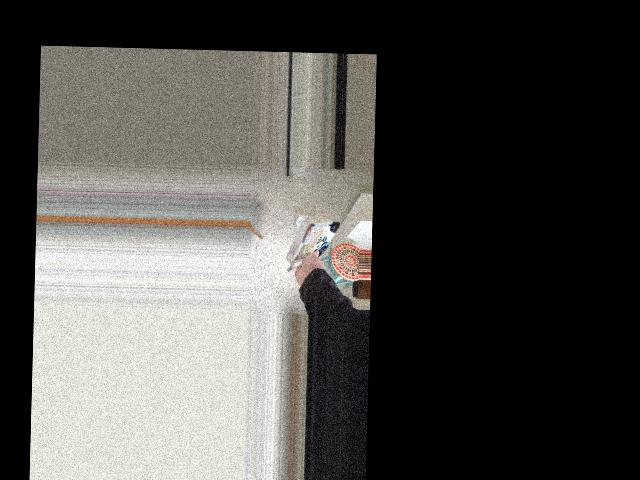cheese: (279, 213, 349, 286)
